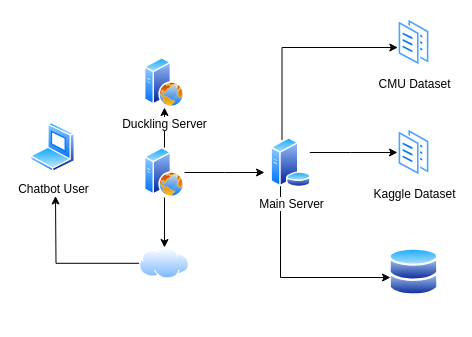
Image size: 472x337. Some labels were removed from this diagram. Each missing label, with the centre of its shape:
IMDB Dataset: (413,271)
Rasa Server: (164,172)
